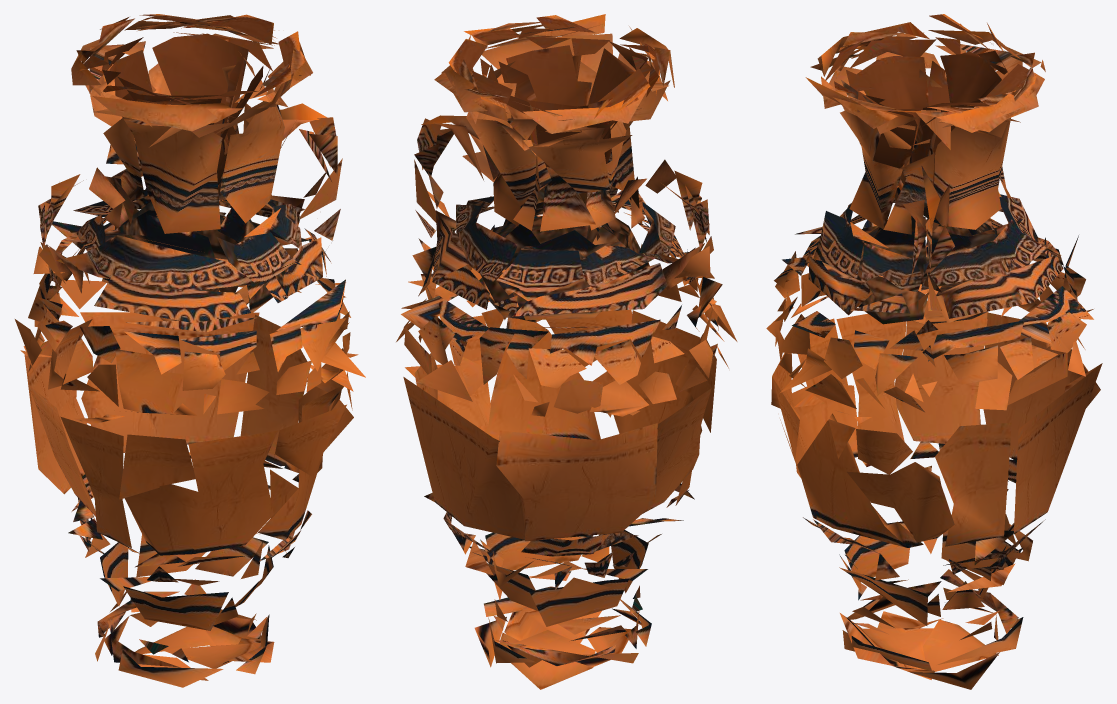
File: anfora.glb
The picture shows the model from 3 angles, left to right: view 1: azimuth 30°, elevation 25°; view 2: azimuth 150°, elevation 25°; view 3: azimuth 270°, elevation 25°; orthographic projection. The views are drawn at different scales.
Parts seen in each view (by area): view 1: Mesh_0; view 2: Mesh_0; view 3: Mesh_0.
Boxes of the visible parts, x1,y1,x2,y2 form: Mesh_0: (15, 14, 365, 687); Mesh_0: (396, 14, 737, 689); Mesh_0: (766, 14, 1102, 689).
Bounding box in the file's own units: 1.04 × 2.02 × 1.
Materials: 1 (1 with a texture image).
